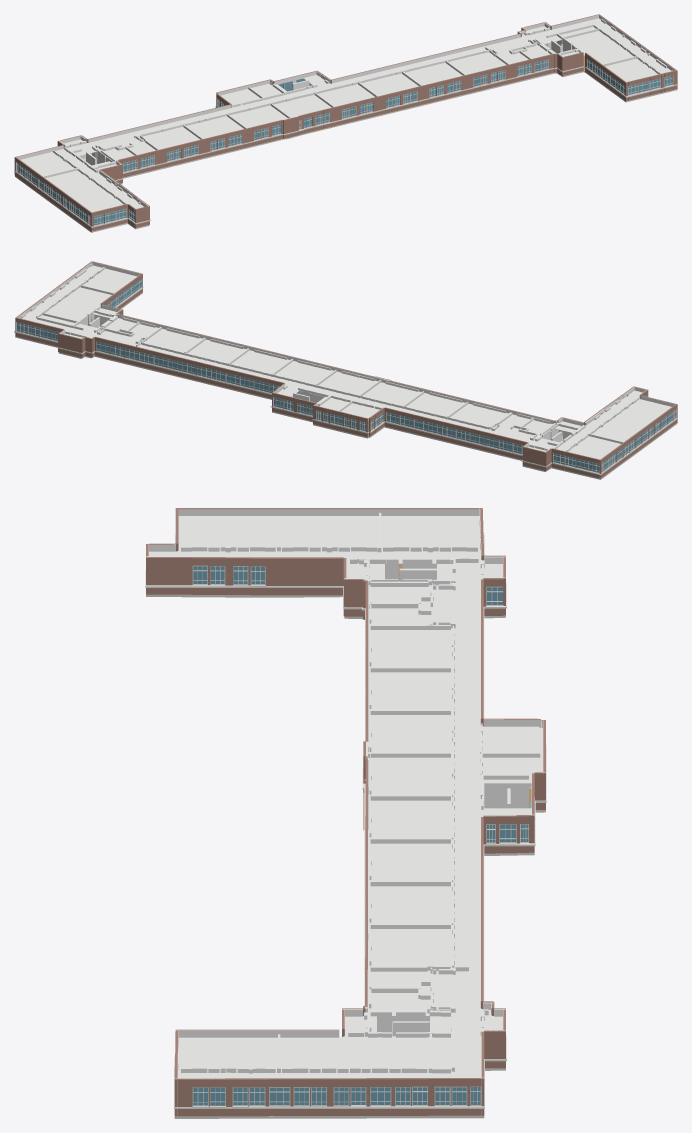
The model's file is main_2F.glb.
3 renders of one model, top to bottom at view 1: azimuth 30°, elevation 25°; view 2: azimuth 150°, elevation 25°; view 3: azimuth 270°, elevation 25°, orthographic. The views are drawn at different scales.
Parts seen in each view (by area): view 1: main_2F__ceil, main_2F__brick, main_2F__wallIn, main_2F__glass, main_2F__frameW, main_2F__white, main_2F__corrFloor, main_2F__rail; view 2: main_2F__ceil, main_2F__brick, main_2F__wallIn, main_2F__glass, main_2F__frameW, main_2F__white, main_2F__corrFloor, main_2F__rail; view 3: main_2F__ceil, main_2F__wallIn, main_2F__brick, main_2F__glass, main_2F__frameW, main_2F__white, main_2F__corrFloor.
Boxes of the visible parts, x1,y1,x2,y2 form: main_2F__ceil: [20, 18, 671, 212]; main_2F__brick: [14, 14, 677, 231]; main_2F__wallIn: [16, 15, 676, 230]; main_2F__glass: [17, 59, 672, 225]; main_2F__frameW: [15, 59, 673, 225]; main_2F__white: [14, 66, 677, 227]; main_2F__corrFloor: [15, 70, 677, 232]; main_2F__rail: [16, 65, 672, 223]; main_2F__ceil: [22, 265, 671, 459]; main_2F__brick: [15, 261, 677, 478]; main_2F__wallIn: [16, 261, 675, 459]; main_2F__glass: [17, 279, 675, 472]; main_2F__frameW: [16, 278, 676, 473]; main_2F__white: [14, 287, 677, 475]; main_2F__corrFloor: [15, 292, 677, 479]; main_2F__rail: [17, 286, 676, 471]; main_2F__ceil: [149, 516, 542, 1078]; main_2F__wallIn: [146, 508, 545, 1115]; main_2F__brick: [146, 508, 545, 1116]; main_2F__glass: [193, 566, 528, 1105]; main_2F__frameW: [192, 565, 528, 1106]; main_2F__white: [145, 535, 546, 1108]; main_2F__corrFloor: [146, 580, 545, 1118].
Size of the model in its own units: 121 by 3.85 by 35.75.
